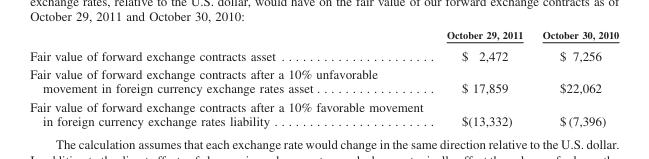table: (29, 28, 618, 127)
table column: (29, 28, 434, 127), (434, 28, 532, 127), (532, 28, 618, 127)
table column header: (29, 28, 618, 44)
table row: (29, 64, 618, 97), (29, 97, 618, 127), (29, 44, 618, 64), (29, 28, 618, 44)
